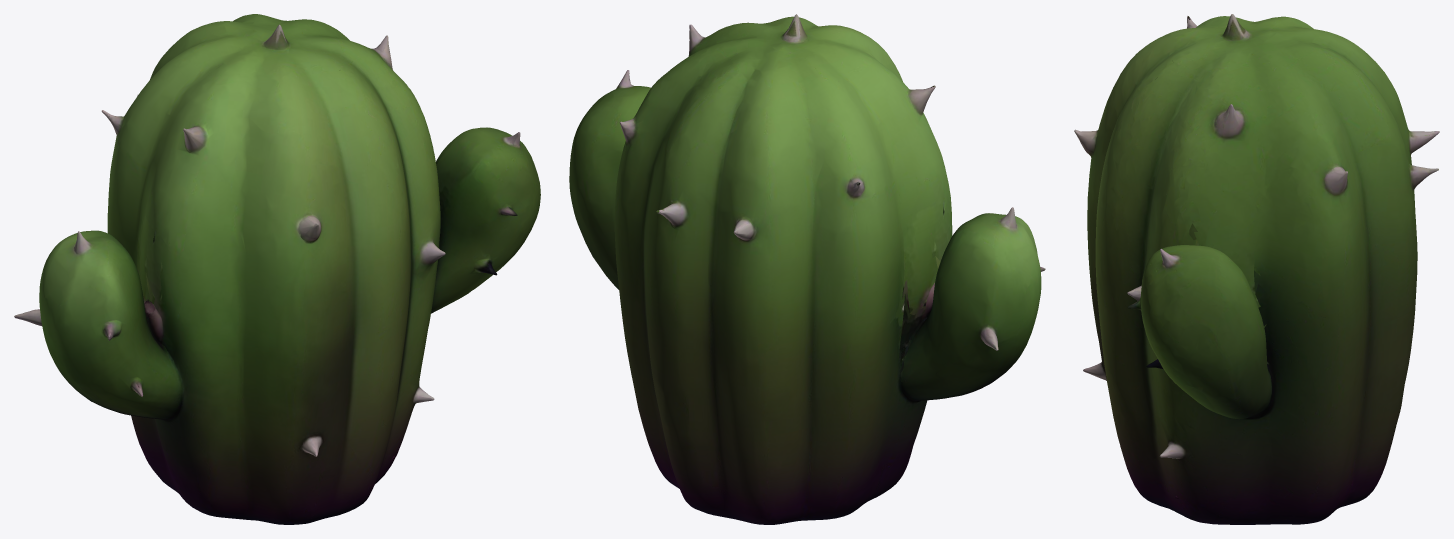
Rendered from g-cactus.glb.
3 renders of one model, left to right at view 1: azimuth 30°, elevation 25°; view 2: azimuth 150°, elevation 25°; view 3: azimuth 270°, elevation 25°, orthographic. The views are drawn at different scales.
Parts seen in each view (by area): view 1: world; view 2: world; view 3: world.
Part boxes in pixels (bbox=[...]): world: bbox=[14, 14, 540, 524]; world: bbox=[569, 14, 1045, 524]; world: bbox=[1074, 14, 1439, 524].
Bounding box in the file's own units: 1.99 × 1.91 × 1.32.
Materials: 1 (1 with a texture image).
